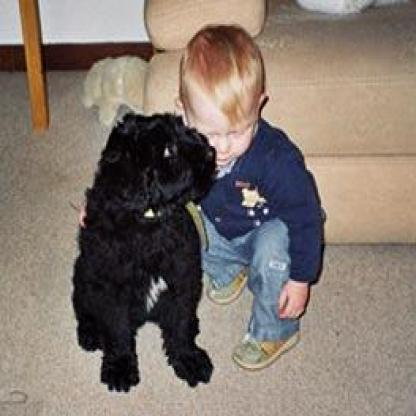Bouvier_des_Flandres: (70, 109, 218, 390)
